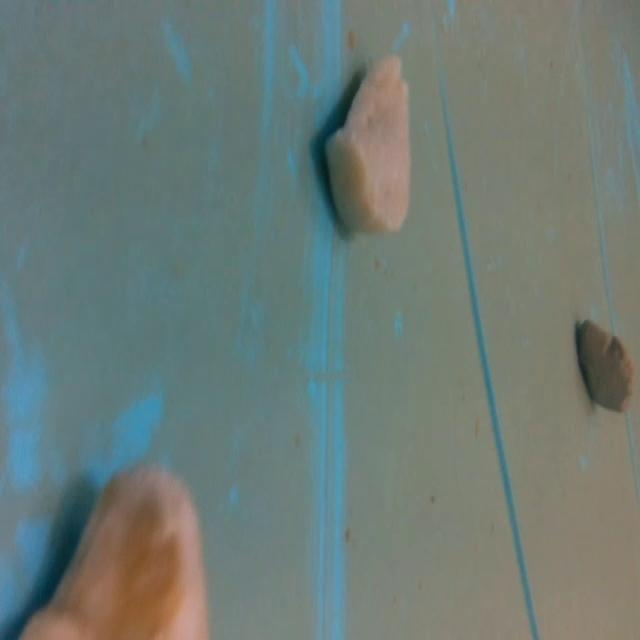rock: (317, 42, 422, 244), (574, 308, 639, 420)
